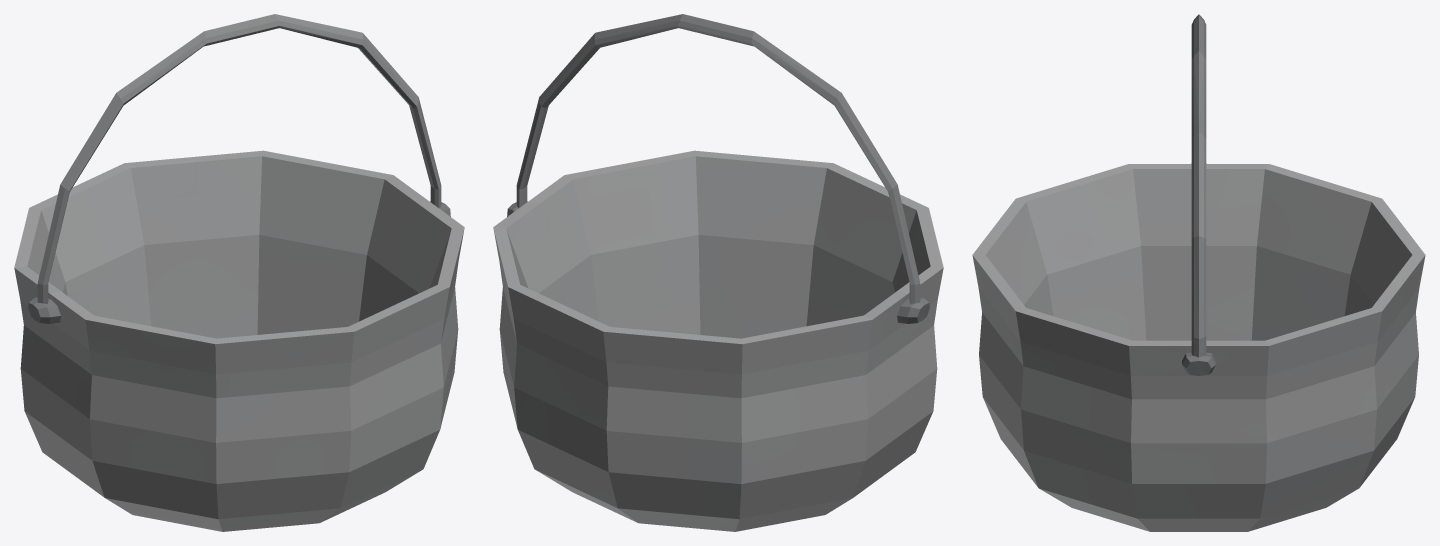
Rendered from cooking_pot.obj.
3 renders of one model, left to right at view 1: azimuth 30°, elevation 25°; view 2: azimuth 150°, elevation 25°; view 3: azimuth 270°, elevation 25°, orthographic.
Visible parts, largest first — view 1: cooking_pot_Material, cooking_handle_Material; view 2: cooking_pot_Material, cooking_handle_Material; view 3: cooking_pot_Material, cooking_handle_Material.
Part boxes in pixels (box(x1,y1,x2,y2)): cooking_pot_Material: box(14, 150, 464, 531); cooking_handle_Material: box(37, 14, 441, 304); cooking_pot_Material: box(493, 150, 943, 531); cooking_handle_Material: box(516, 14, 920, 304); cooking_pot_Material: box(972, 163, 1425, 531); cooking_handle_Material: box(1191, 14, 1206, 357).
Bounding box in the file's own units: 0.379 × 0.3882 × 0.3665.
